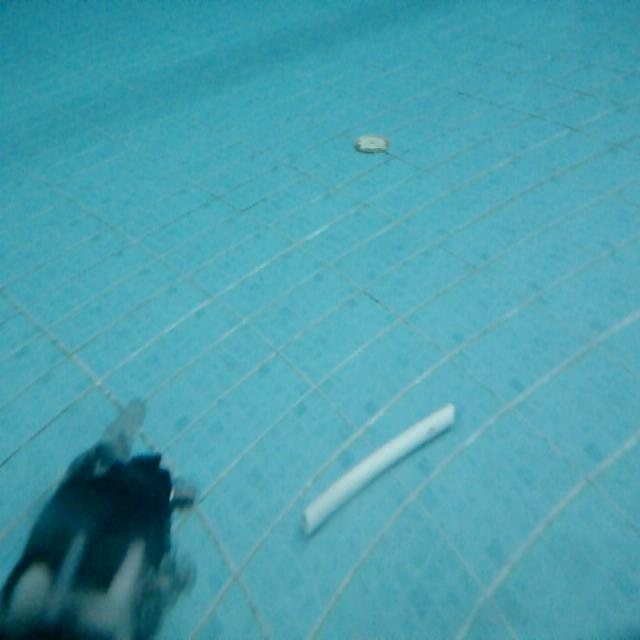Cube: (296, 396, 458, 540)
